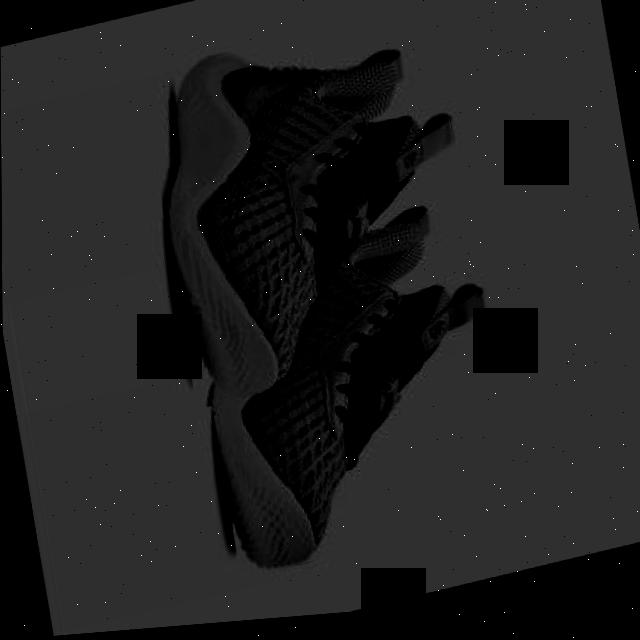shoe: (140, 6, 488, 416), (182, 171, 518, 587)
